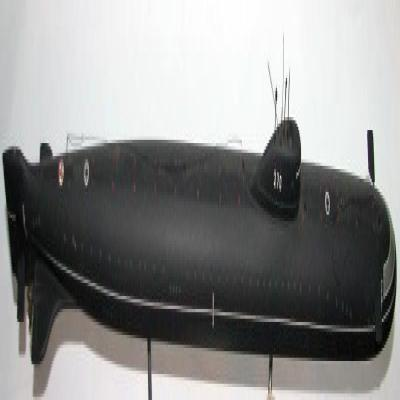other: (2, 143, 396, 371)
